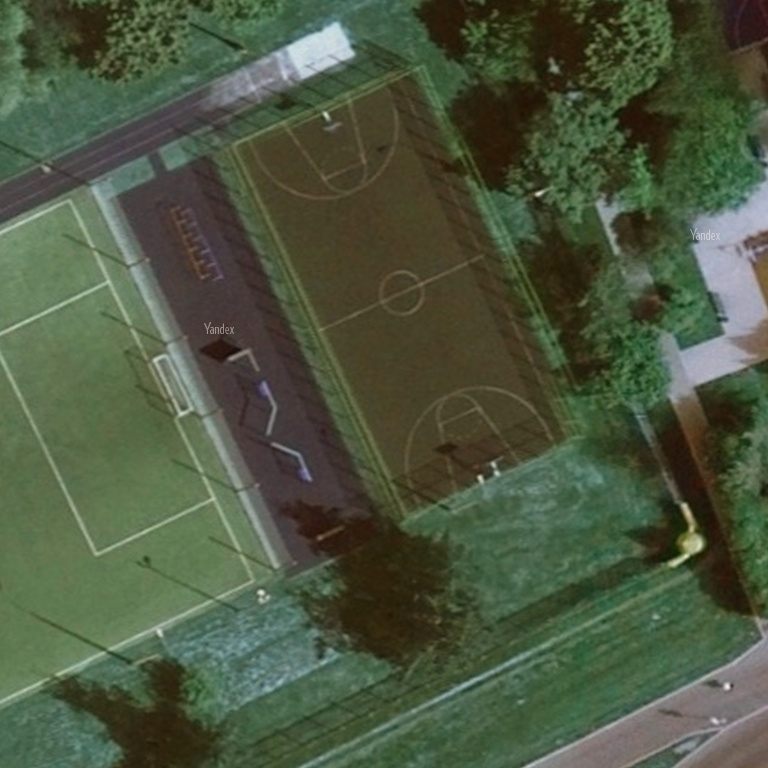basket_court: (217, 57, 603, 531)
